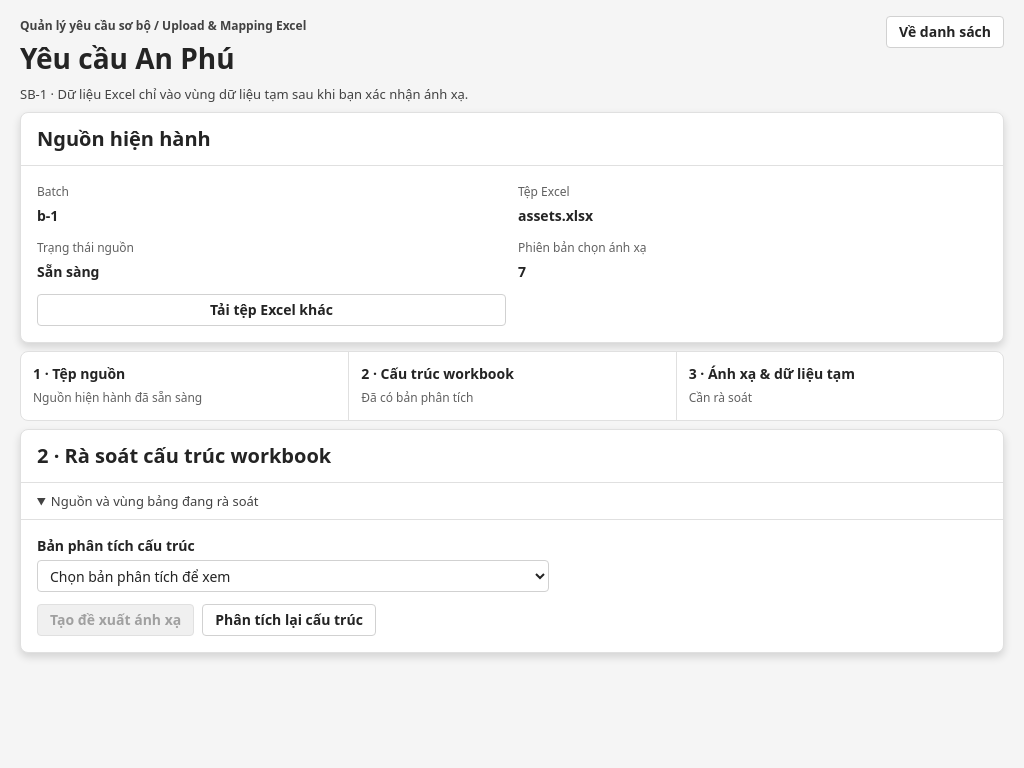
Scenario: PreliminaryIntakePage › disables mutations when an authoritative refresh fails and the visible data is stale
This screenshot has width=1024, height=768.
Step 1. Click the button "Phân tích lại cấu trúc" → (289, 620), box [202,604,376,636]
(page scrolled)
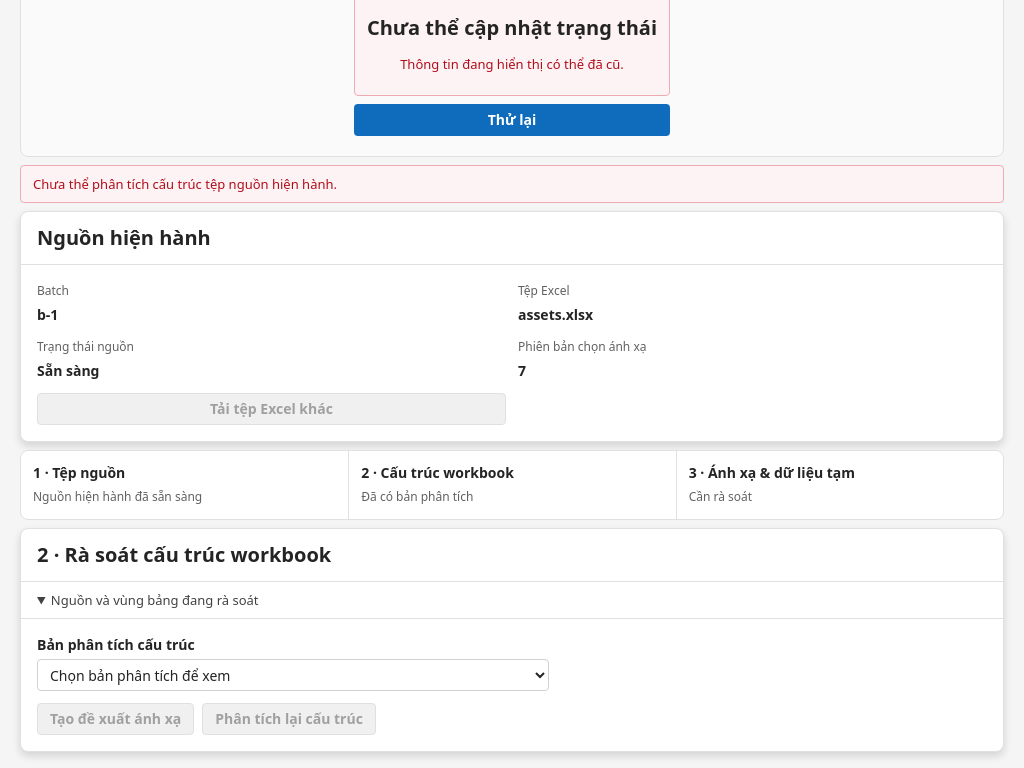
Now the button "Phân tích lại cấu trúc" is disabled, box [202,703,376,735]
